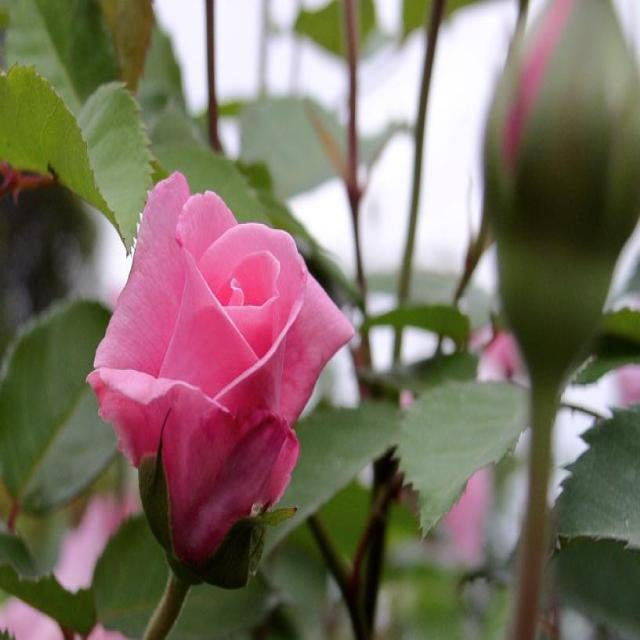rose: (76, 160, 384, 617)
